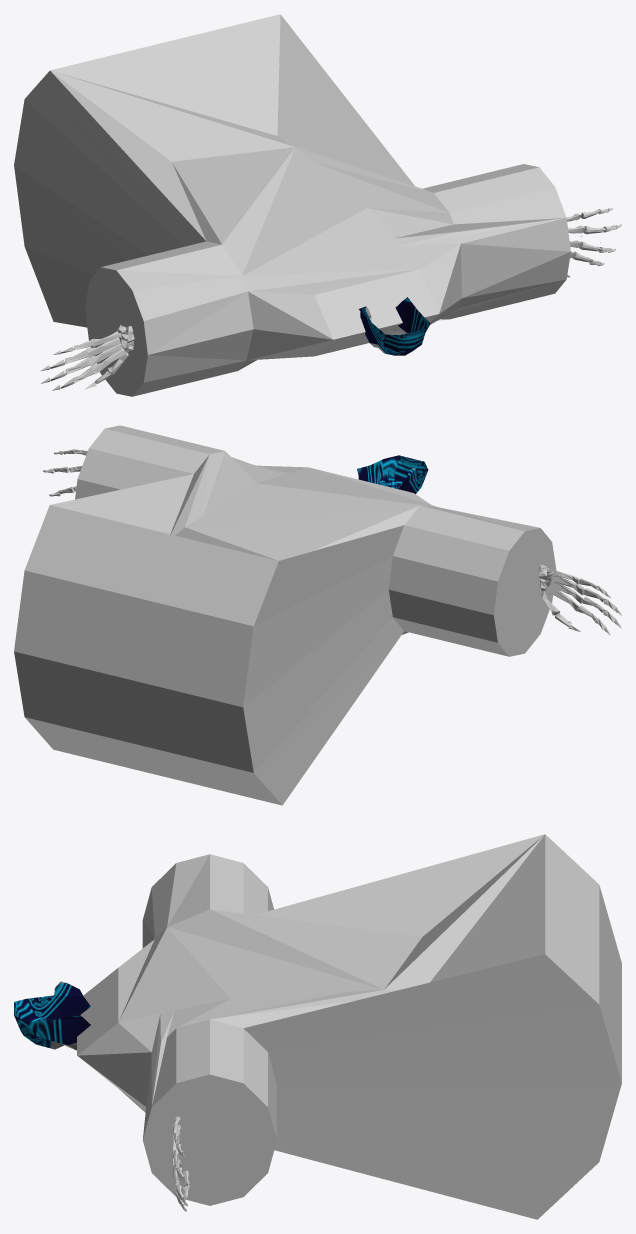
Rendered from skeletonhandman_wtf.obj.
3 renders of one model, top to bottom at view 1: azimuth 30°, elevation 25°; view 2: azimuth 150°, elevation 25°; view 3: azimuth 270°, elevation 25°, orthographic. The views are drawn at different scales.
Visible parts, largest first — view 1: group117, group97; view 2: group117, group97; view 3: group117, group97.
Boxes of the visible parts, x1,y1,x2,y2 form: group117: (14, 14, 570, 396); group97: (359, 297, 430, 355); group117: (14, 425, 556, 805); group97: (357, 455, 428, 493); group117: (77, 834, 621, 1219); group97: (14, 981, 90, 1050).
Bounding box in the file's own units: 660 × 269 × 559.
